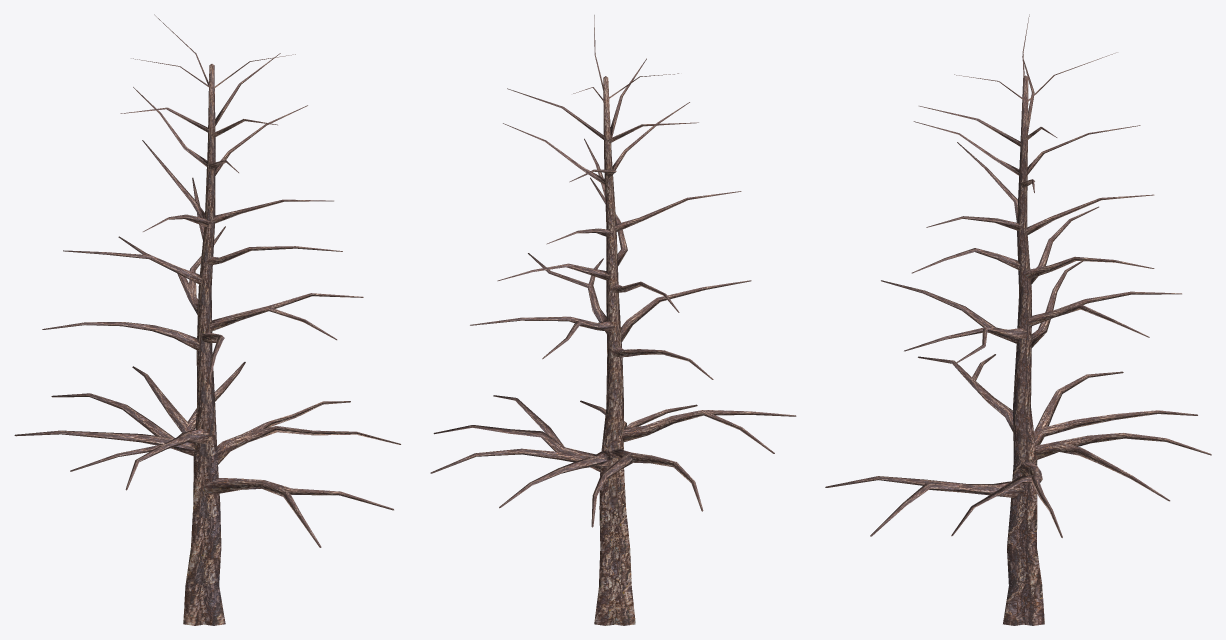
The model's file is trunk.glb.
3 renders of one model, left to right at view 1: azimuth 30°, elevation 25°; view 2: azimuth 150°, elevation 25°; view 3: azimuth 270°, elevation 25°, orthographic.
Visible parts, largest first — view 1: tree; view 2: tree; view 3: tree.
Boxes of the visible parts, x1,y1,x2,y2 form: tree: (14,14,400,625); tree: (430,15,796,625); tree: (825,14,1211,625).
Size of what is drawn, in the model's own units: 14.35 by 25.14 by 15.4.
1 material, 1 textured.
